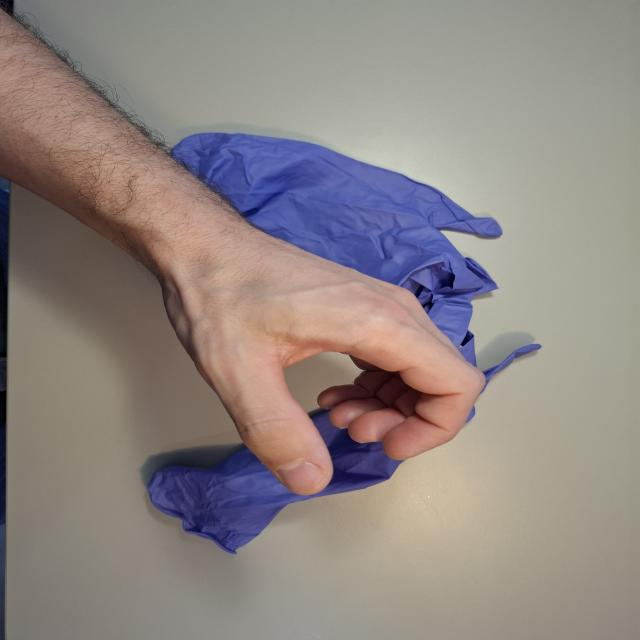glove_off: (155, 207, 492, 498)
